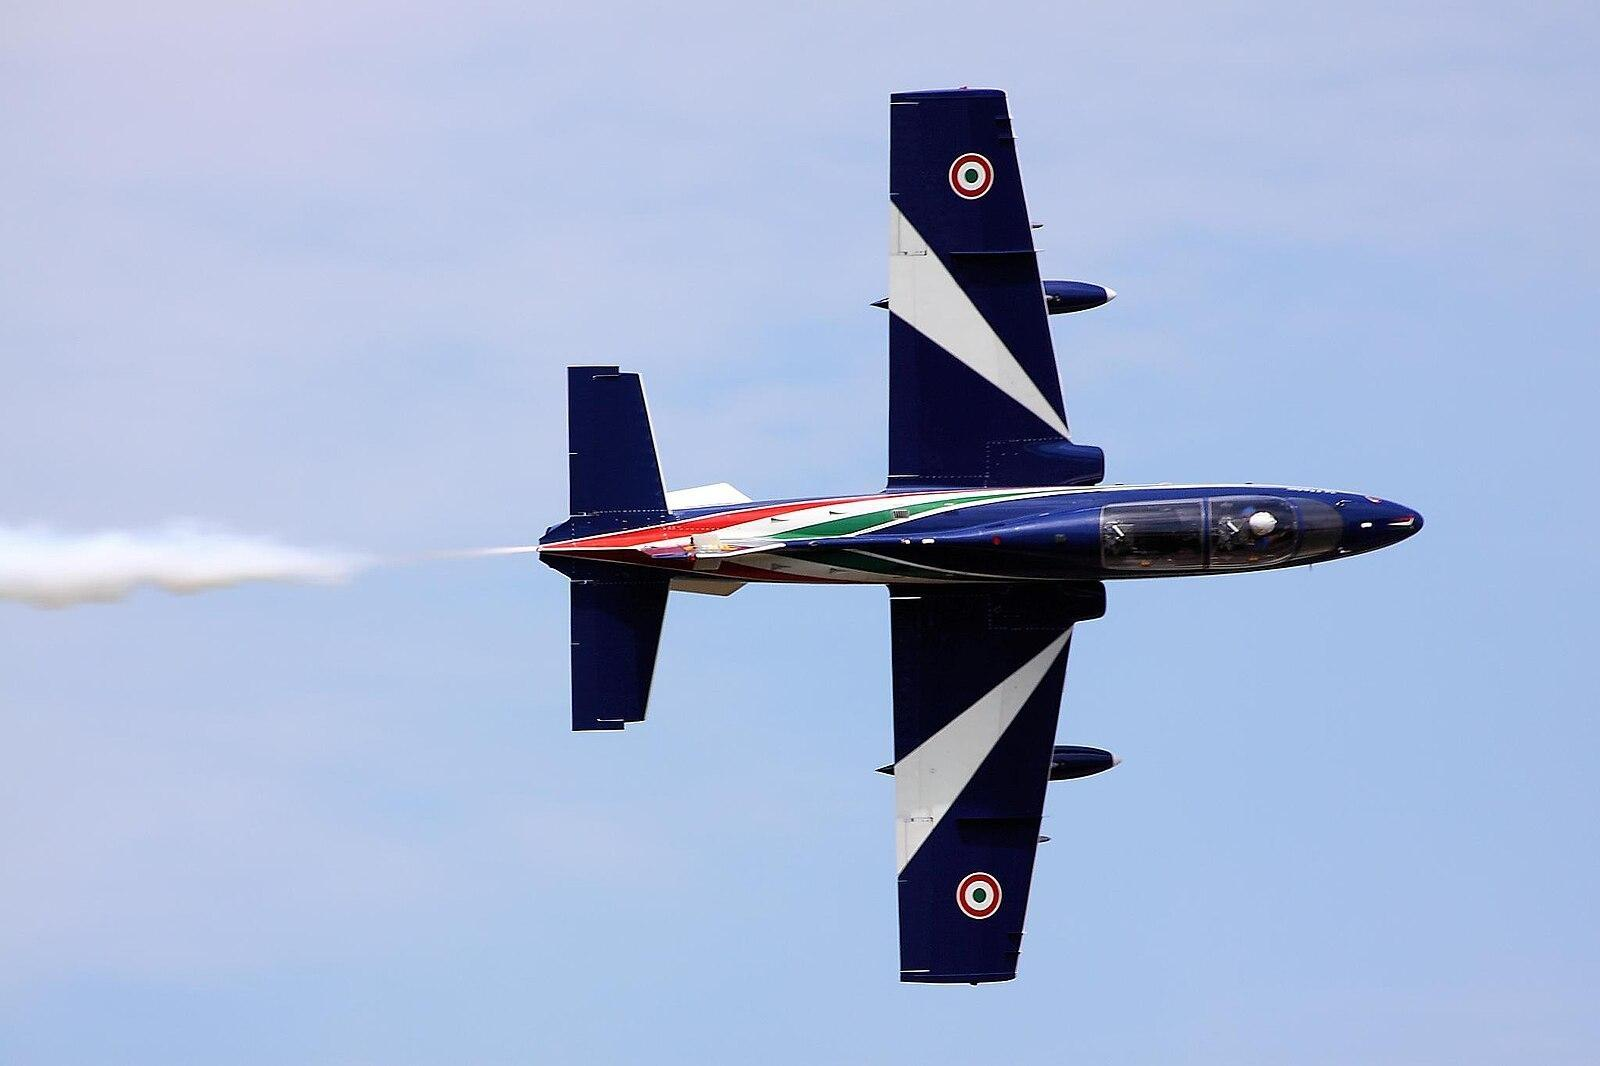Airplane: (521, 80, 1441, 998)
